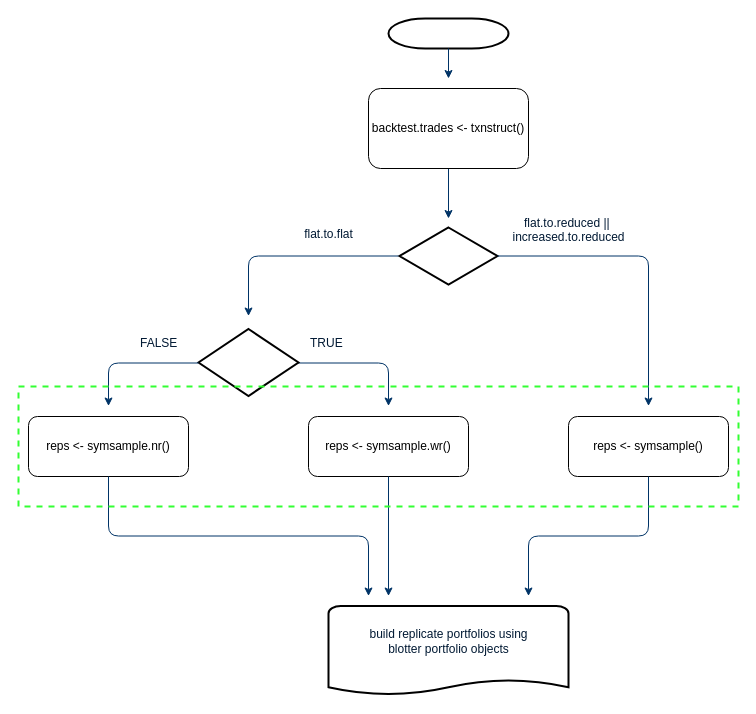
Image size: 756x714. Some labels were removed from this diagram. Here are the shapes that lost their labels. From the top down, the box of each, then its label:
(387, 17, 509, 49): txnsim()
(398, 226, 498, 285): tradeDef
(197, 328, 299, 396): replacement?
